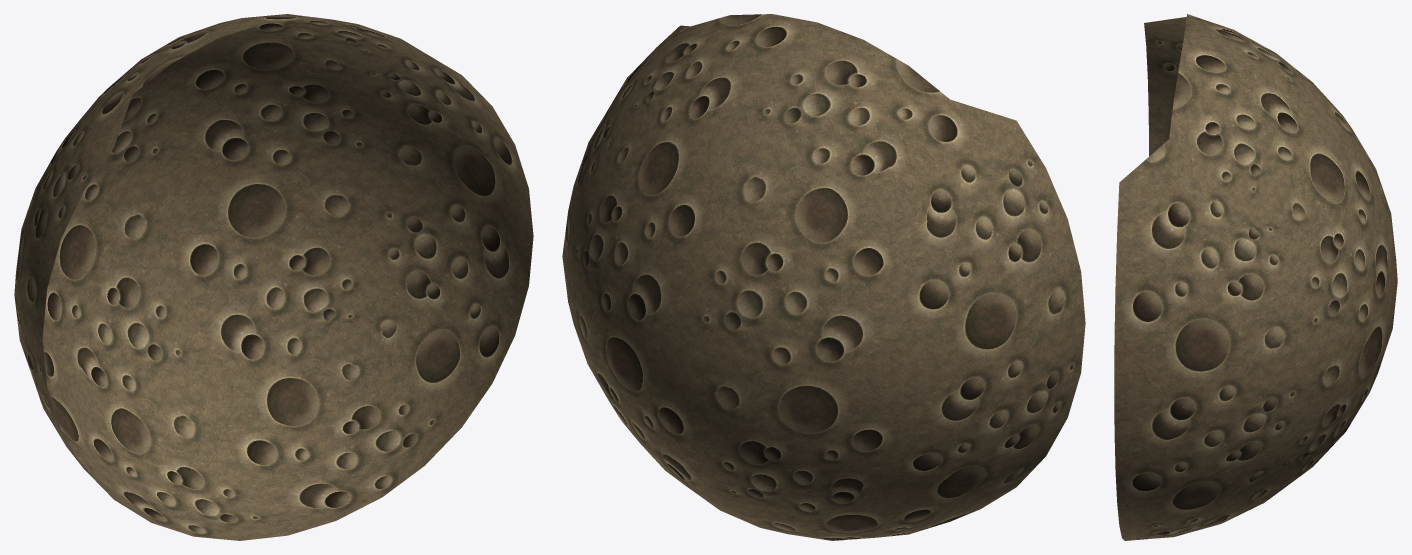
Rendered from Gctr_RainbowRoad_perm.dae.
3 views of the same model, side by side, from view 1: azimuth 30°, elevation 25°; view 2: azimuth 150°, elevation 25°; view 3: azimuth 270°, elevation 25° (orthographic). The views are drawn at different scales.
Parts seen in each view (by area): view 1: mesh_rr_moon; view 2: mesh_rr_moon; view 3: mesh_rr_moon.
Boxes of the visible parts, <box> form: mesh_rr_moon: <box>14,14,533,540</box>; mesh_rr_moon: <box>562,14,1085,540</box>; mesh_rr_moon: <box>1114,14,1397,540</box>.
Size of the model in its own units: 11895 by 6337 by 11808.
1 material, 1 textured.
